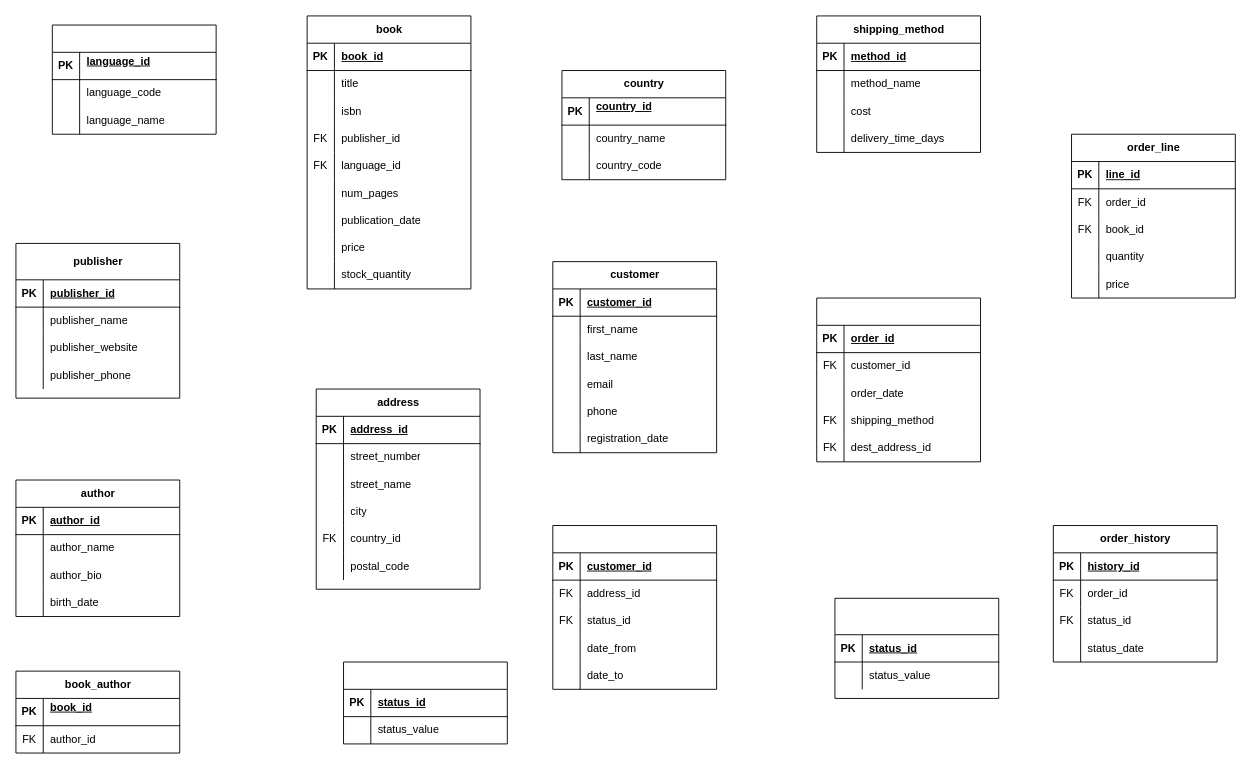
The diagram is 1251 pixels wide and 769 high, and some of its shapes have lost their labels. The box of each missing label's shape, as (x1, y1, x2, y2) in pixels:
address_status: (343, 661, 507, 744)
book_language: (51, 24, 216, 134)
cust_order: (816, 297, 981, 462)
customer_address: (552, 525, 717, 689)
order_status: (834, 597, 999, 698)
